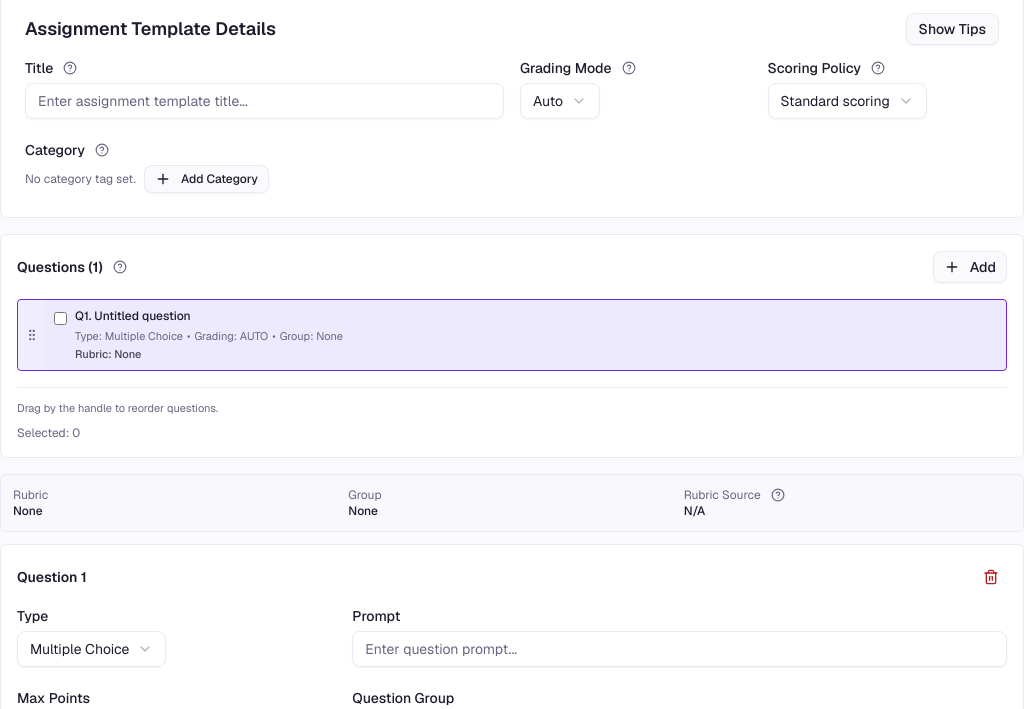
AssignmentTemplateBuilderForm › shows title error on submit with empty title
Step 1. Type "A question" into the field with placeholder "Enter question prompt..." → [680, 649], box [352,631,1007,667]
(page scrolled)
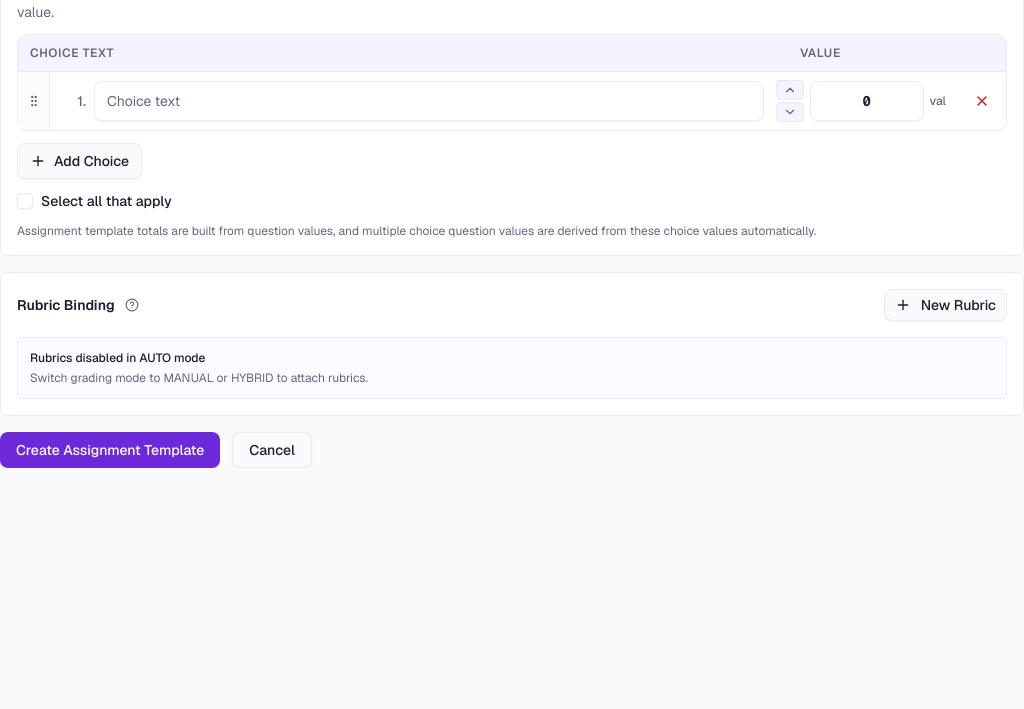
Submit the form
Step 2. Click the button "Create Assignment Template" → [110, 450], box [0,432,220,468]
(page scrolled)
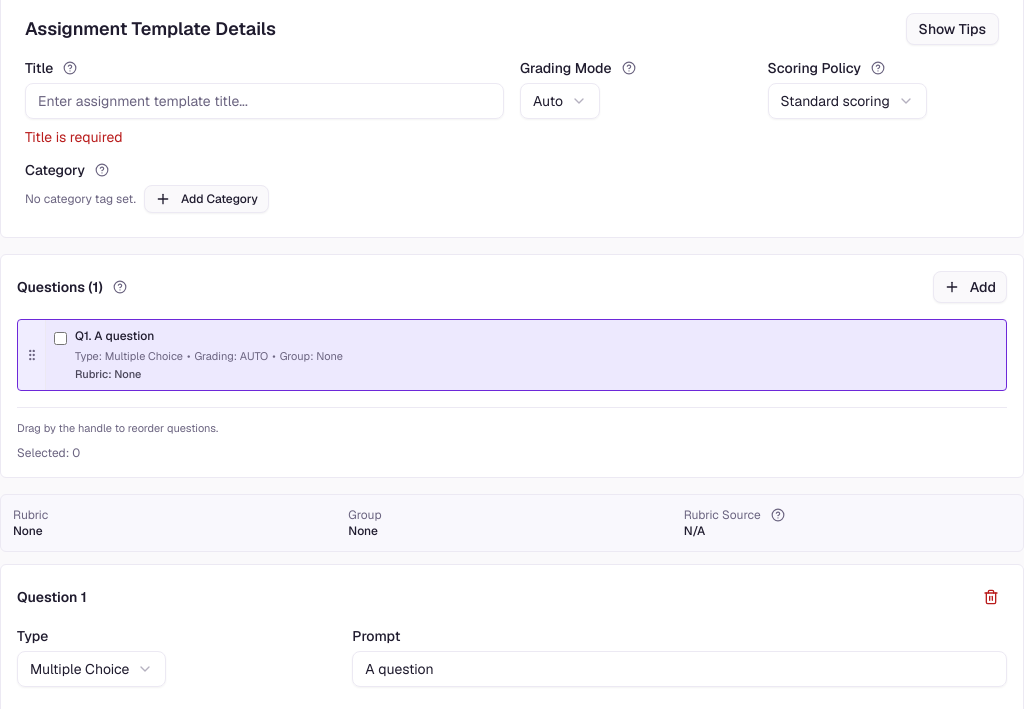
Now the text "Title is required" is shown, box [25,128,123,146]
